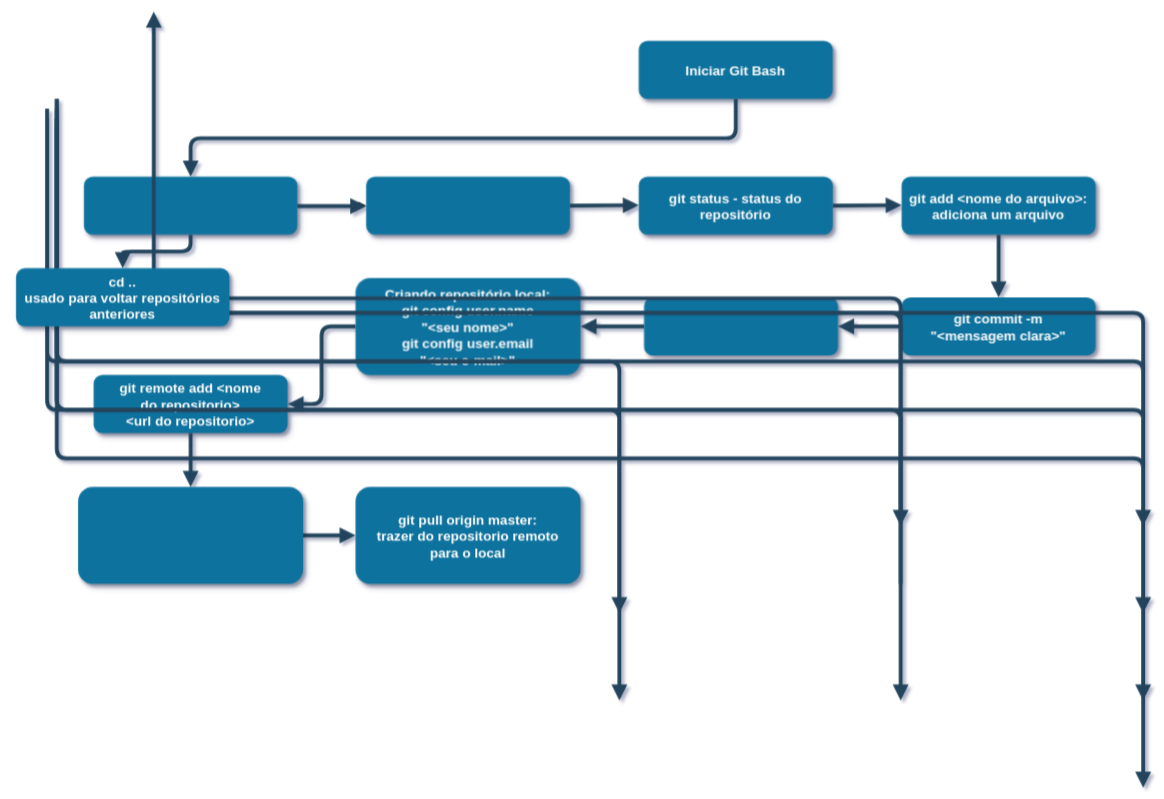
Some shapes in this 1164 by 799 pixel diagram are drawn without their labels. Each missing label, with the centre of its shape:
"cd [nome do repositório] ex: cd Documents/Db1Start" goes at point (191, 206).
"git init - inicializa um repositório git" goes at point (468, 206).
"git log - mostra todos os commits" goes at point (741, 327).
"git push origin master: enviar do repositorio local para o remoto" goes at point (191, 536).
